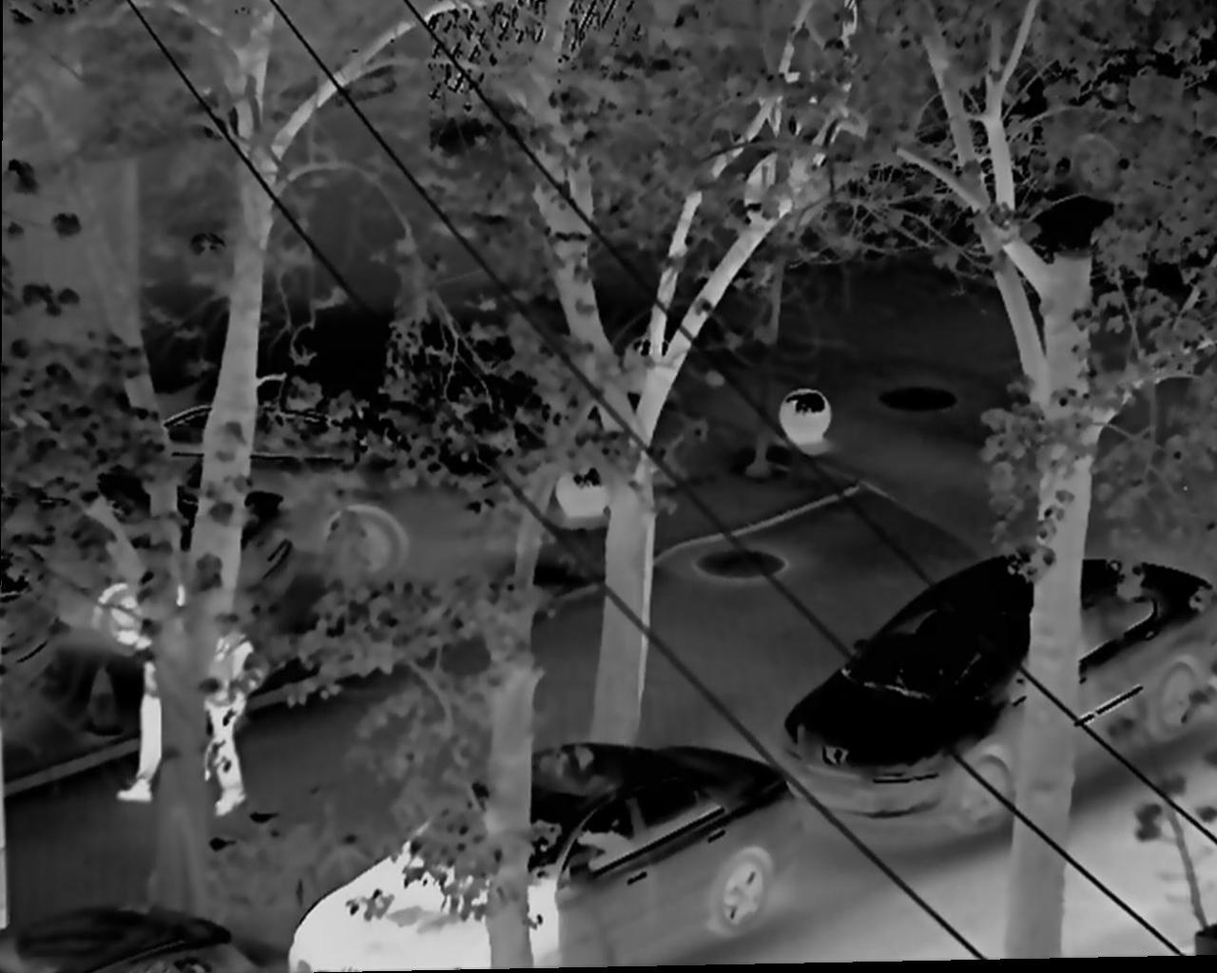person: (171, 601, 252, 815), (115, 580, 180, 800)
